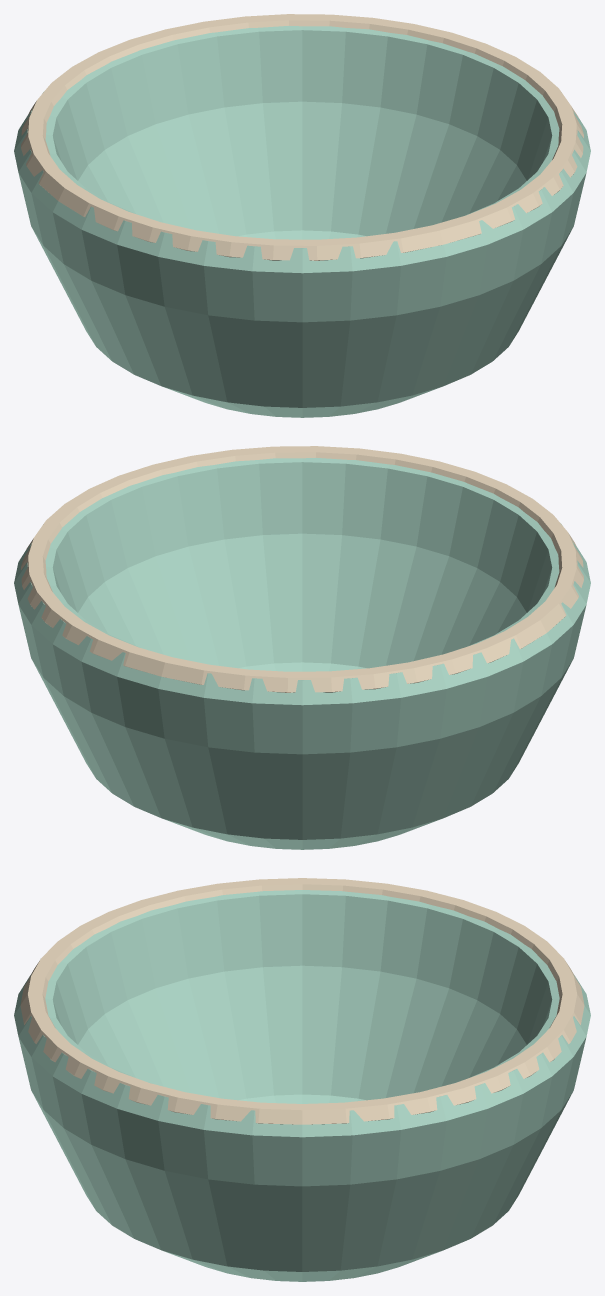
Rendered from tea_chawan.glb.
3 views of the same model, one above another, from view 1: azimuth 30°, elevation 25°; view 2: azimuth 150°, elevation 25°; view 3: azimuth 270°, elevation 25° (orthographic).
Parts seen in each view (by area): view 1: Tea bowl, thick rolled lip, raised rim; view 2: Tea bowl, thick rolled lip, raised rim; view 3: Tea bowl, thick rolled lip, raised rim.
Part boxes in pixels (<box>): Tea bowl, thick rolled lip: <box>14,26,590,417</box>; raised rim: <box>21,14,583,260</box>; Tea bowl, thick rolled lip: <box>14,458,590,849</box>; raised rim: <box>21,446,583,692</box>; Tea bowl, thick rolled lip: <box>14,890,590,1281</box>; raised rim: <box>20,878,584,1124</box>.
Size of the model in its own units: 1.95 by 0.8723 by 1.95.
